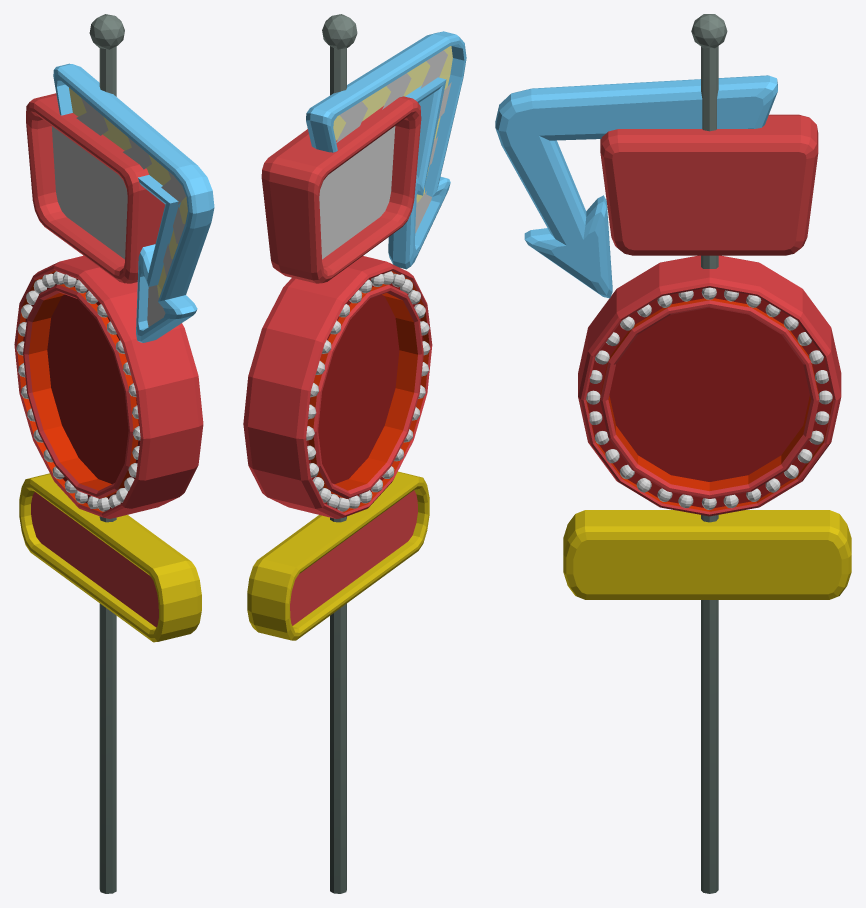
File: EventSign.fbx
3 views of the same model, side by side, from view 1: azimuth 30°, elevation 25°; view 2: azimuth 150°, elevation 25°; view 3: azimuth 270°, elevation 25° (orthographic).
Parts seen in each view (by area): view 1: Circle, Cube, arrow, Pole, Bulbs02, Bulbs02.001, Plane.06, Plane.01; view 2: Cube, Circle, arrow, Pole, Bulbs02.001, Bulbs02, Plane.06, Plane.04; view 3: Cube, Circle, arrow, Pole, Bulbs02.002, Bulbs02.003.
Boxes of the visible parts, x1=… form: Circle: x1=14, y1=255, x2=203, y2=518; Cube: x1=19, y1=93, x2=201, y2=642; arrow: x1=53, y1=63, x2=214, y2=342; Pole: x1=89, y1=14, x2=124, y2=893; Bulbs02: x1=16, y1=271, x2=140, y2=511; Bulbs02.001: x1=17, y1=273, x2=139, y2=508; Plane.06: x1=76, y1=98, x2=108, y2=135; Plane.01: x1=147, y1=285, x2=165, y2=326; Cube: x1=247, y1=96, x2=429, y2=640; Circle: x1=243, y1=256, x2=432, y2=518; arrow: x1=306, y1=31, x2=466, y2=269; Pole: x1=322, y1=14, x2=357, y2=893; Bulbs02.001: x1=307, y1=273, x2=429, y2=508; Bulbs02: x1=306, y1=271, x2=430, y2=511; Plane.06: x1=336, y1=101, x2=367, y2=142; Plane.04: x1=420, y1=50, x2=447, y2=88; Cube: x1=563, y1=114, x2=851, y2=599; Circle: x1=578, y1=255, x2=841, y2=516; arrow: x1=495, y1=75, x2=777, y2=298; Pole: x1=691, y1=14, x2=727, y2=893; Bulbs02.002: x1=586, y1=287, x2=832, y2=509; Bulbs02.003: x1=589, y1=290, x2=829, y2=508.
Size of the model in its own units: 333 by 4093 by 1510.
